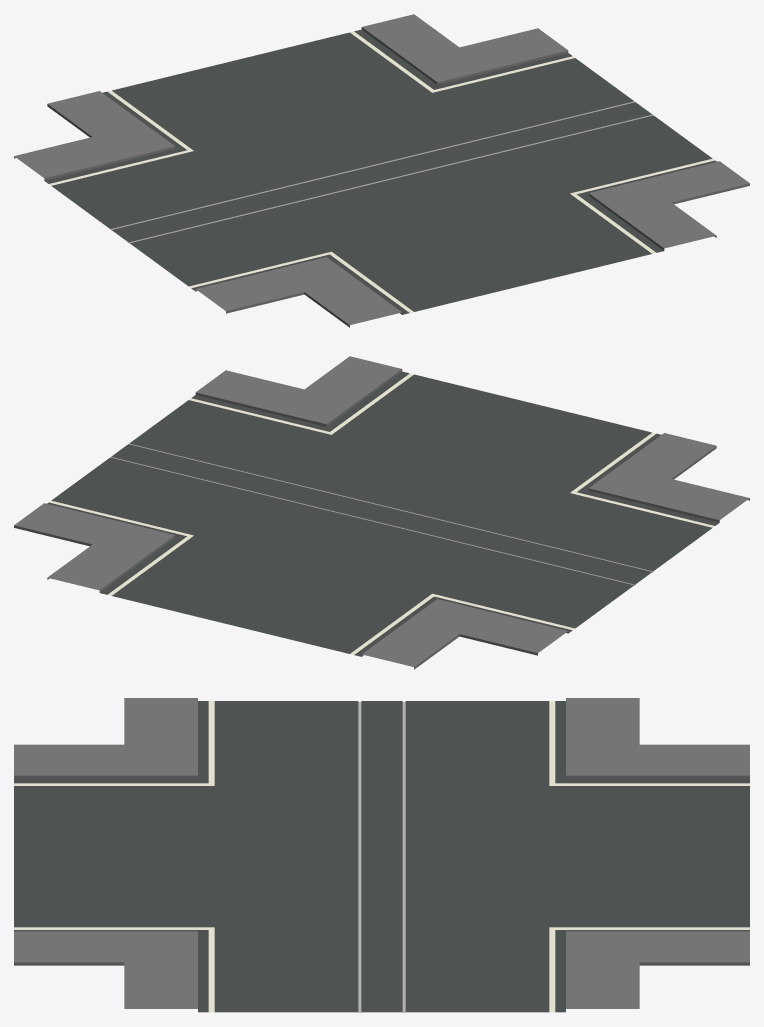
File: Road_Crossroads_4.fbx
3 renders of one model, top to bottom at view 1: azimuth 30°, elevation 25°; view 2: azimuth 150°, elevation 25°; view 3: azimuth 270°, elevation 25°, orthographic. The views are drawn at different scales.
Visible parts, largest first — view 1: Road_Crossroads_4; view 2: Road_Crossroads_4; view 3: Road_Crossroads_4.
Part boxes in pixels (x1,y1,x2,y2): Road_Crossroads_4: (14,14,749,327); Road_Crossroads_4: (14,356,749,669); Road_Crossroads_4: (14,698,749,1012).
Size of the model in its own units: 42 by 0.2418 by 42.
Materials: 1 (1 with a texture image).
